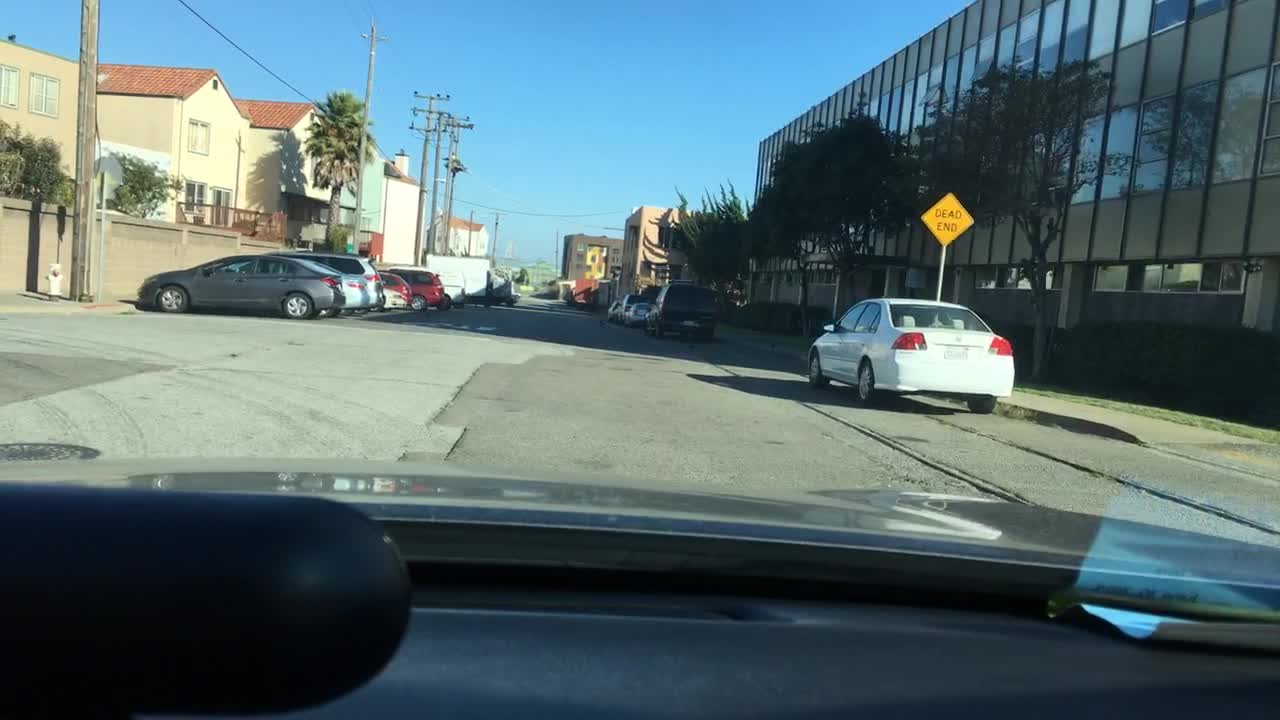car: (807, 296, 1016, 413), (136, 253, 347, 319), (263, 252, 387, 317), (642, 282, 720, 340), (385, 265, 445, 310), (369, 268, 413, 313), (434, 269, 468, 311), (617, 292, 649, 325), (622, 302, 658, 331), (606, 298, 622, 320), (546, 279, 558, 294)
traffic sign: (919, 189, 975, 245), (90, 153, 121, 190), (104, 190, 116, 199), (344, 243, 352, 251)
truck: (425, 253, 520, 309), (562, 276, 600, 309)
